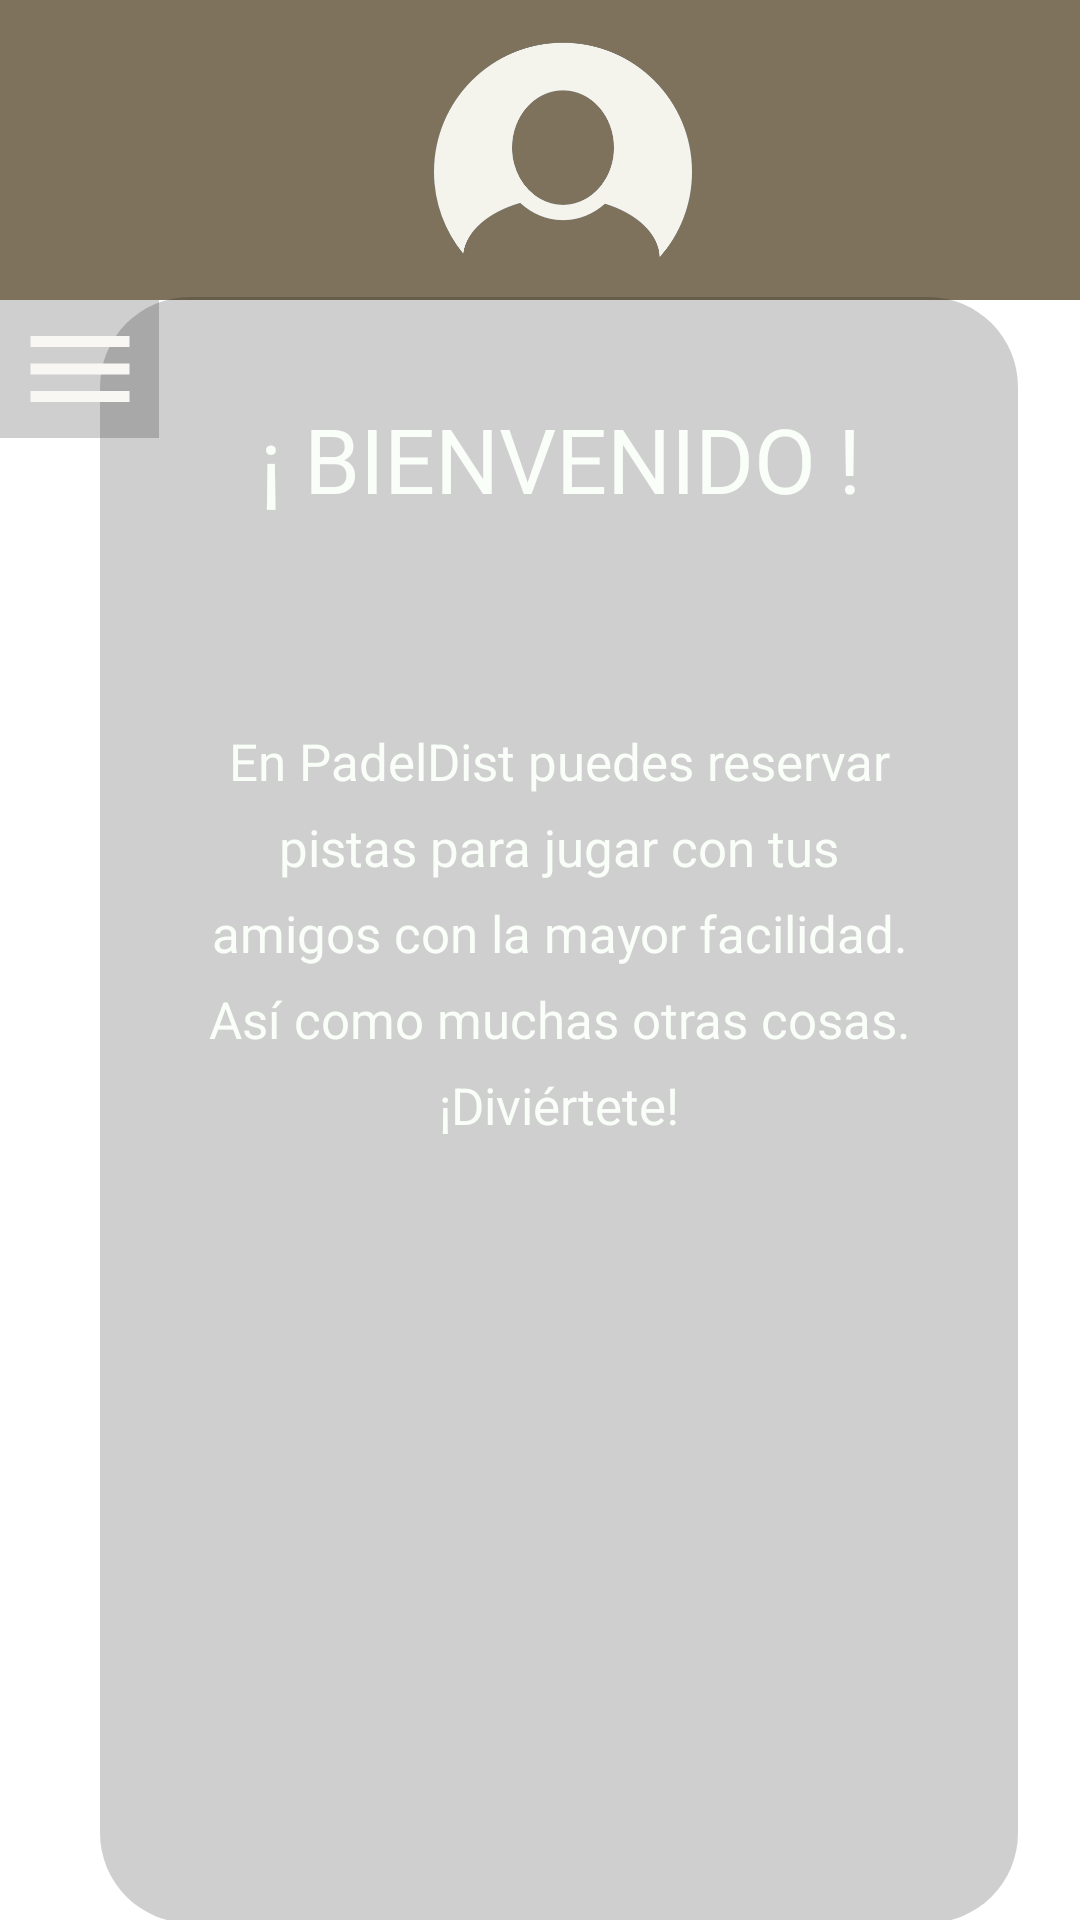

Icon click points for this 1080 × 1920 phone screenshot, format point (x, y):
Open menu: point (79, 369)
user: point (563, 150)
